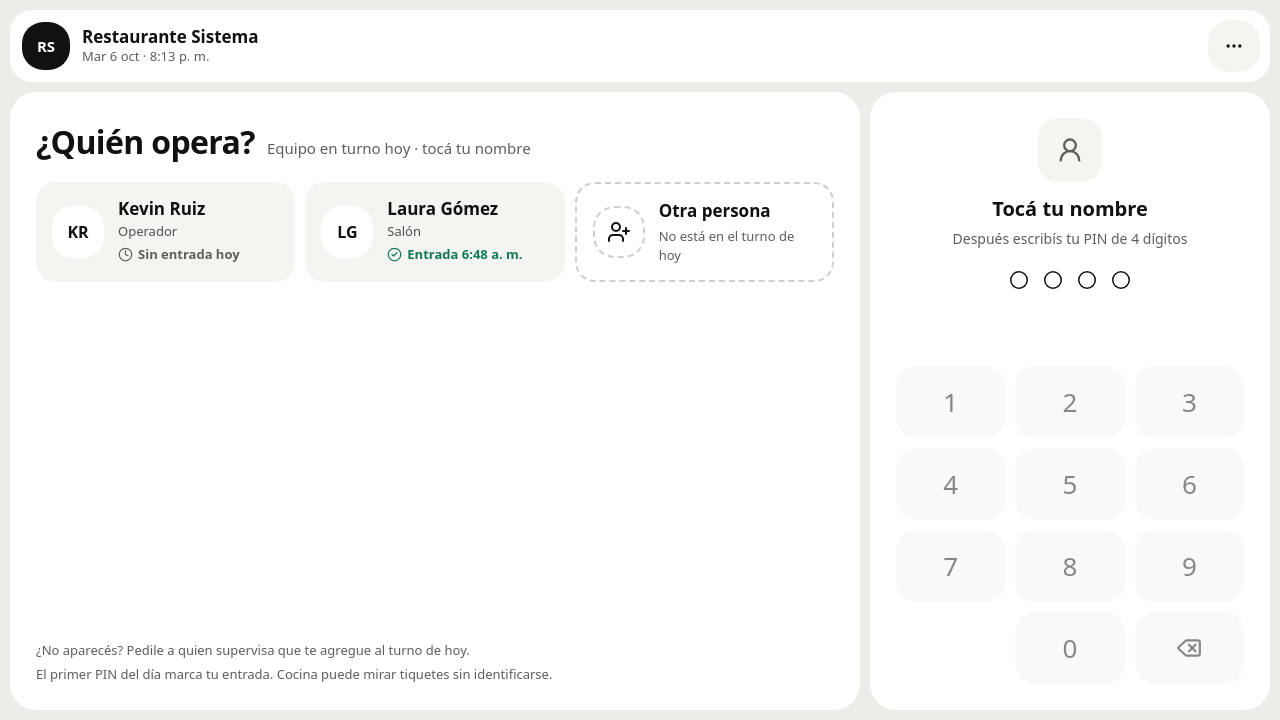
DeviceIdentifyPage — la grilla del handoff › cada tarjeta dice la entrada de hoy (del servidor) o «Sin entrada hoy», con el puesto
Expected: the radio button with aria-label "Laura Gómez, Salón" shows "Entrada 6:48 a. m.", 305,182 -> 565,282
Expected: the radio button with aria-label "Kevin Ruiz, Operador" shows "Sin entrada hoy", 36,182 -> 295,282
Click the button "Otra persona No está en el turno de hoy": click(704, 232) 575,182 -> 834,282
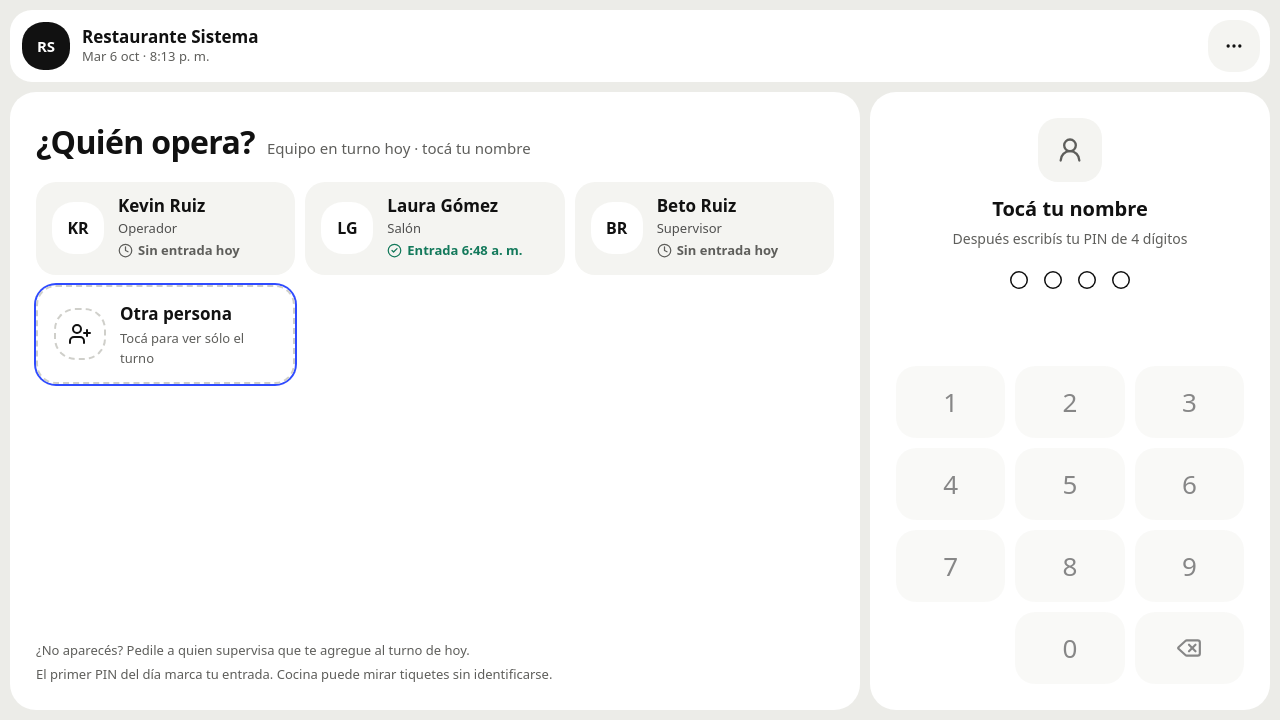
Now the radio button with aria-label "Beto Ruiz, Supervisor" is shown, box 575,182 -> 834,274
Elegida: el panel de la derecha la nombra y habilita el teclado.
Click the radio button with aria-label "Kevin Ruiz, Operador": click(166, 228) 36,182 -> 295,274
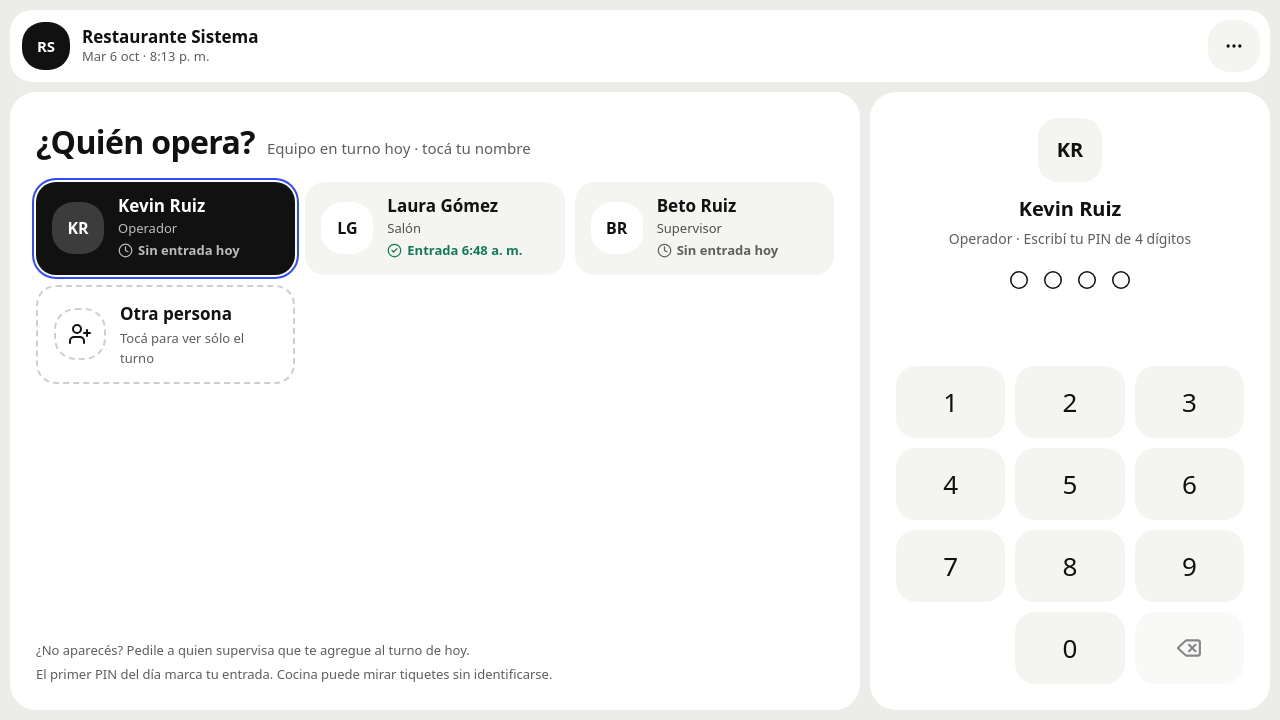
Now the text "Operador · Escribí tu PIN de 4 dígitos" is shown, box 949,228 -> 1191,249
Now the button named "Dígito 1" is enabled, box 896,366 -> 1005,438
